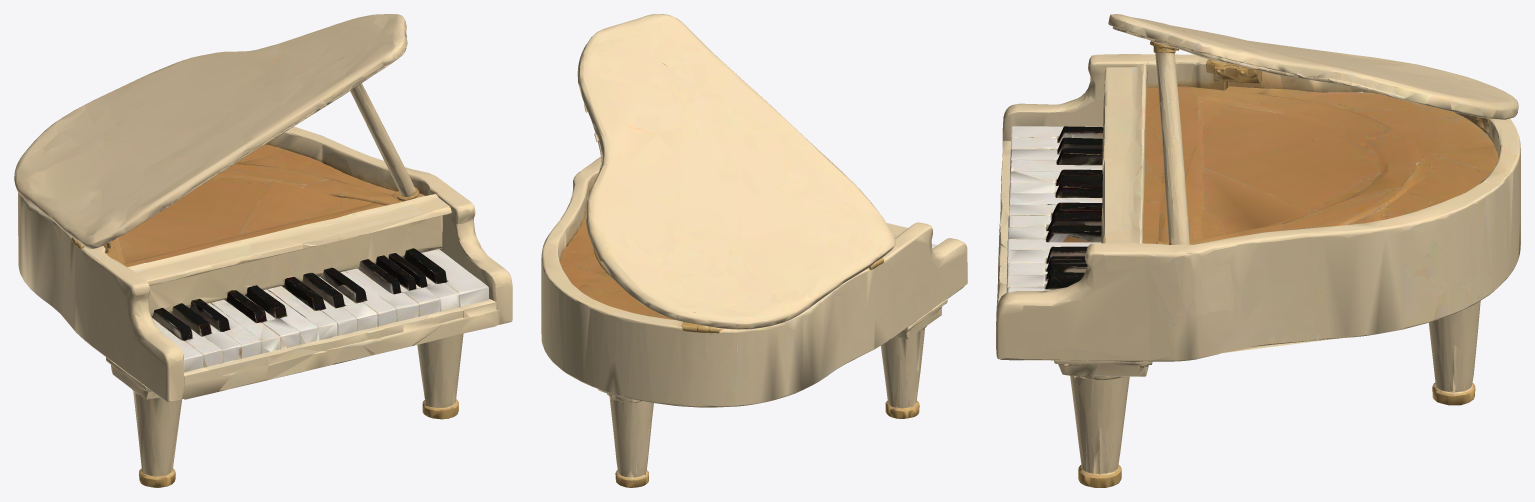
The picture shows the model from 3 angles, left to right: view 1: azimuth 30°, elevation 25°; view 2: azimuth 150°, elevation 25°; view 3: azimuth 270°, elevation 25°; orthographic projection. The views are drawn at different scales.
Size of the model in its own units: 1.73 by 1.77 by 1.9.
1 material, 1 textured.
